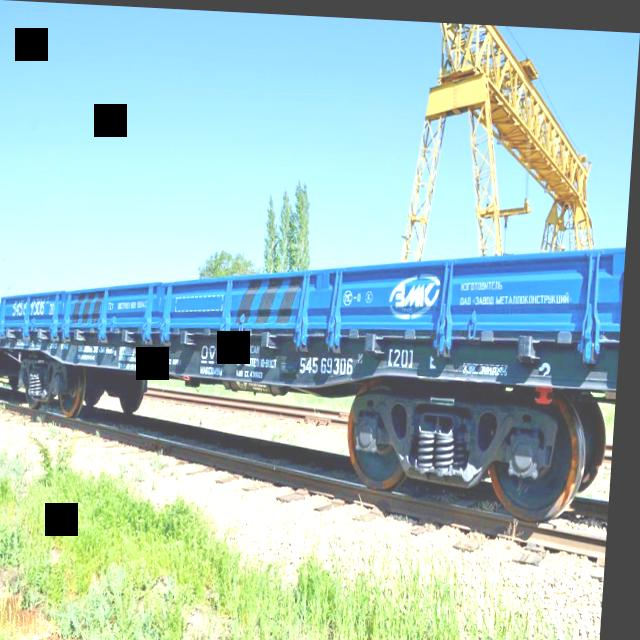flatcar: (0, 300, 624, 526), (0, 330, 2, 399)
